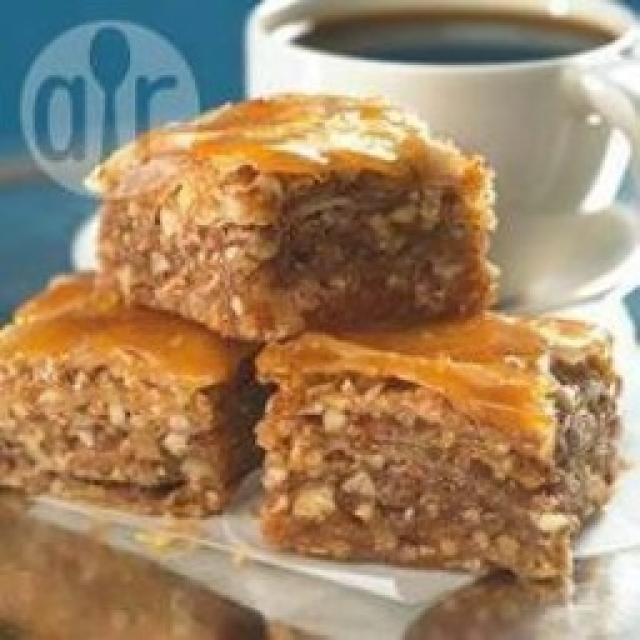Baklawa: (0, 95, 619, 578)
